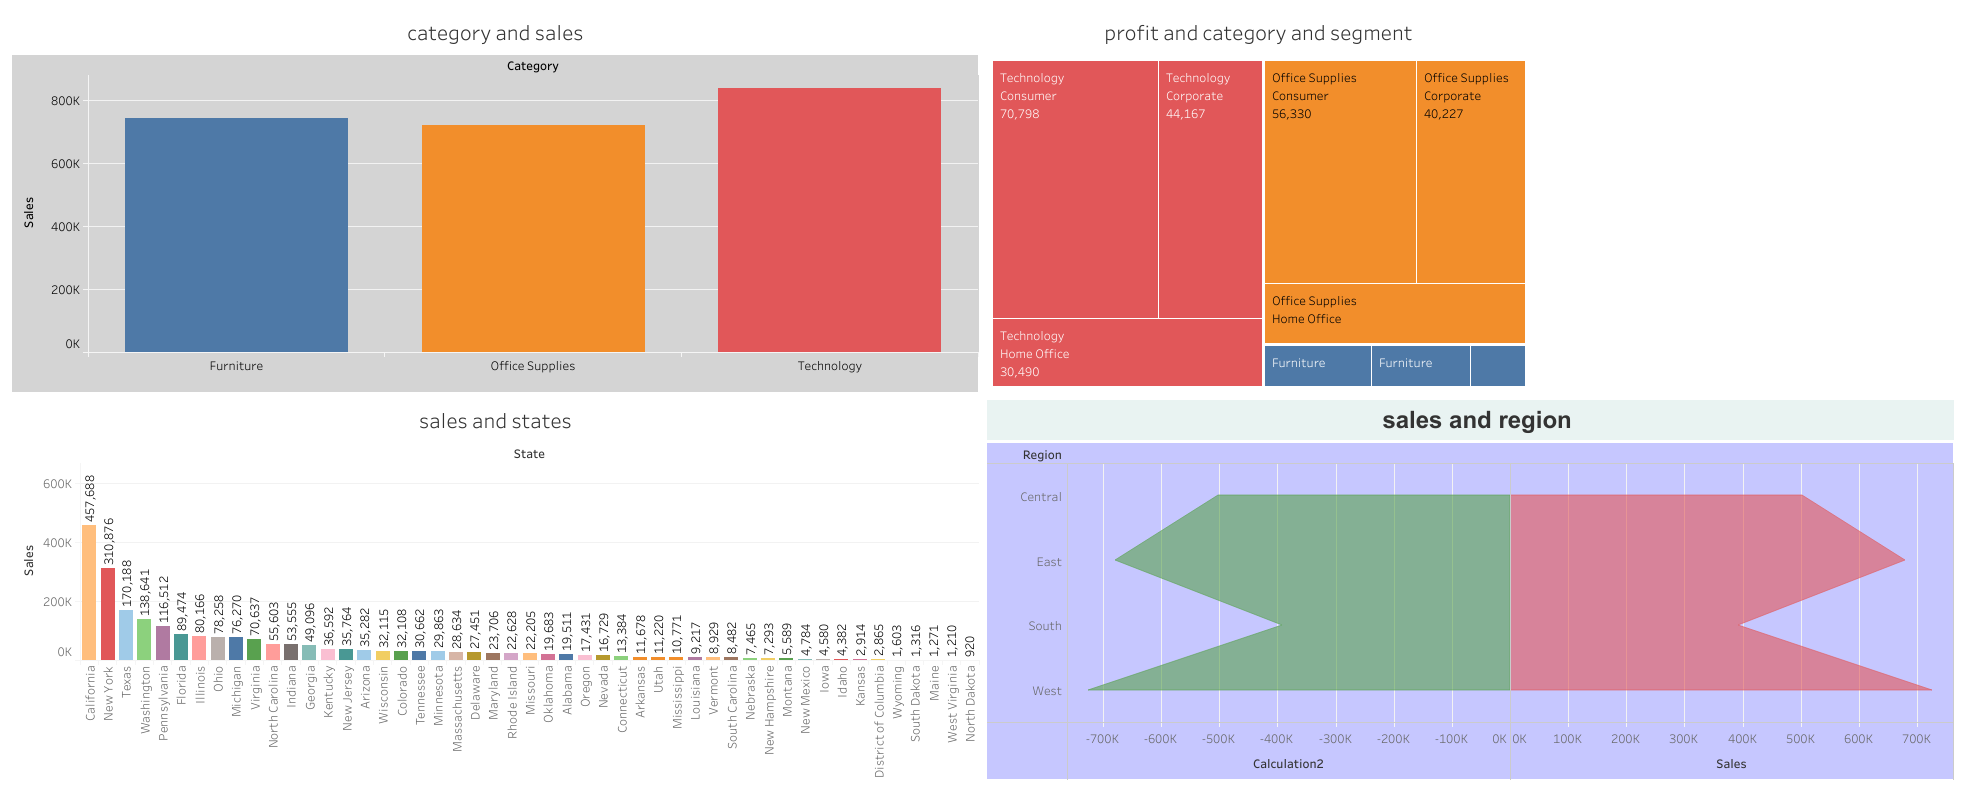

This screenshot's page, from the dashboard's own definition file:
{"tool":"tableau","page":{"name":"Dashboard 3","canvas":[1000,1000],"units":"permille","ordinal":2},"visuals":[{"type":"worksheet","title":"source q7","mark":"Automatic","rows":["Sales"],"cols":["Category"],"box":[6,11.8,493.9,488.2]},{"type":"worksheet","title":"tree chart q2","mark":"Automatic","box":[500,11.8,494,488.2]},{"type":"worksheet","title":"source q10","mark":"Automatic","rows":["Sales"],"cols":["State"],"box":[6,500,494,488.2]},{"type":"worksheet","title":"funnel chart q3","mark":"Area","rows":["Region"],"cols":["Calculation_92323849090351109","Sales"],"box":[500,500,494,488.2]}]}

Visuals, with their boxes on the dashboard's canvas, which has no fixed pixel size, in thousandths of its width and height (x1, y1, x2, y2). These are canvas units, not pixel positions in the 1965x791 screenshot, which may show the page scaled, cropped or inside an application window:
"source q7" worksheet: box=[6, 12, 500, 500]
"tree chart q2" worksheet: box=[500, 12, 994, 500]
"source q10" worksheet: box=[6, 500, 500, 988]
"funnel chart q3" worksheet (Area marks): box=[500, 500, 994, 988]
